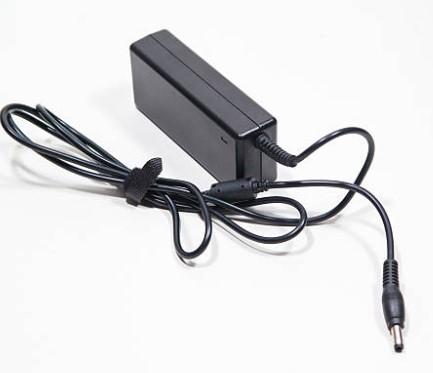cable: (0, 30, 376, 261), (362, 189, 406, 350)
